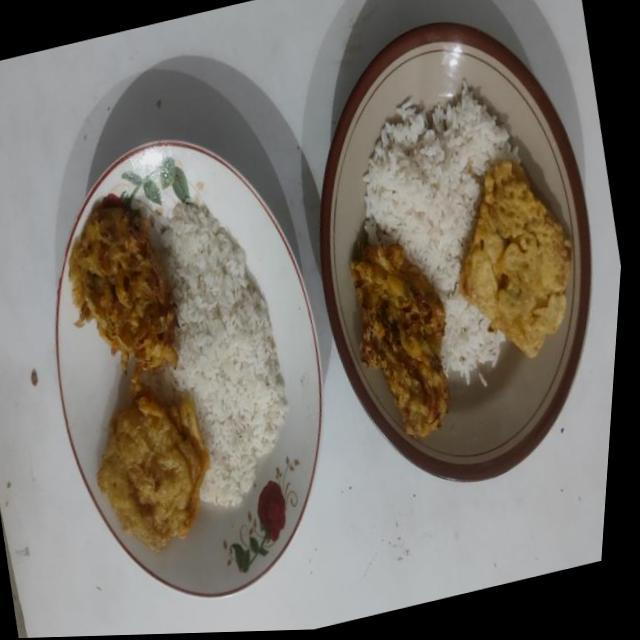nasi_putih: (362, 85, 520, 382), (162, 204, 287, 507)
